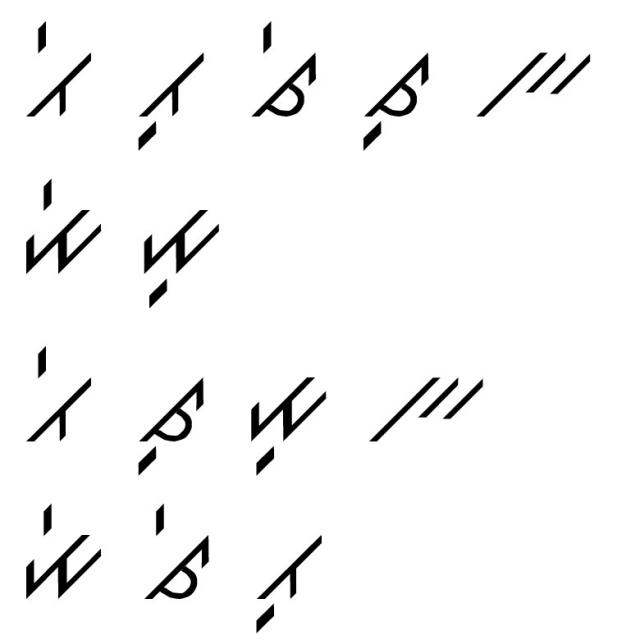be: (17, 336, 102, 454), (26, 20, 104, 134)
bu: (122, 48, 213, 151), (243, 529, 325, 638)
ce: (137, 496, 217, 606), (244, 20, 326, 122)
cu: (128, 371, 218, 483), (354, 46, 436, 152)
me: (14, 170, 108, 284), (12, 498, 108, 606)
mu: (129, 190, 226, 315), (241, 368, 331, 477)
